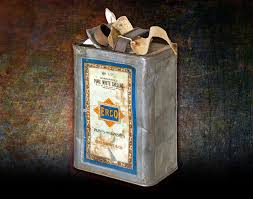can: (71, 4, 182, 191)
